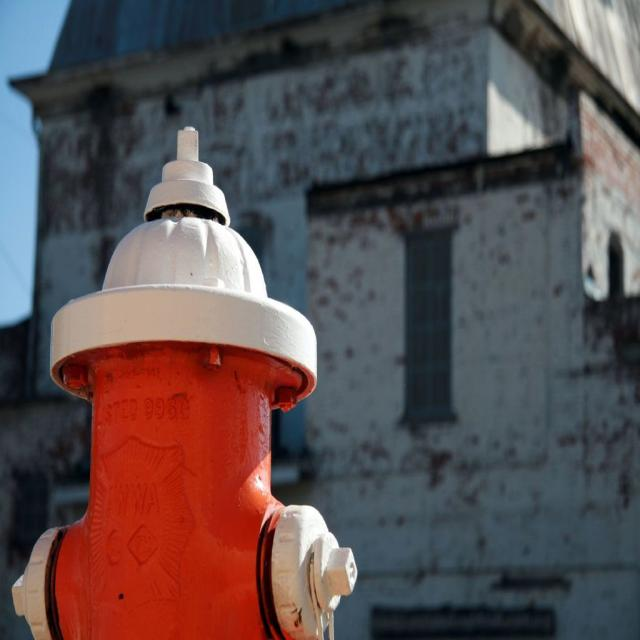fire_hydrant: (10, 123, 357, 639), (13, 129, 357, 639)
